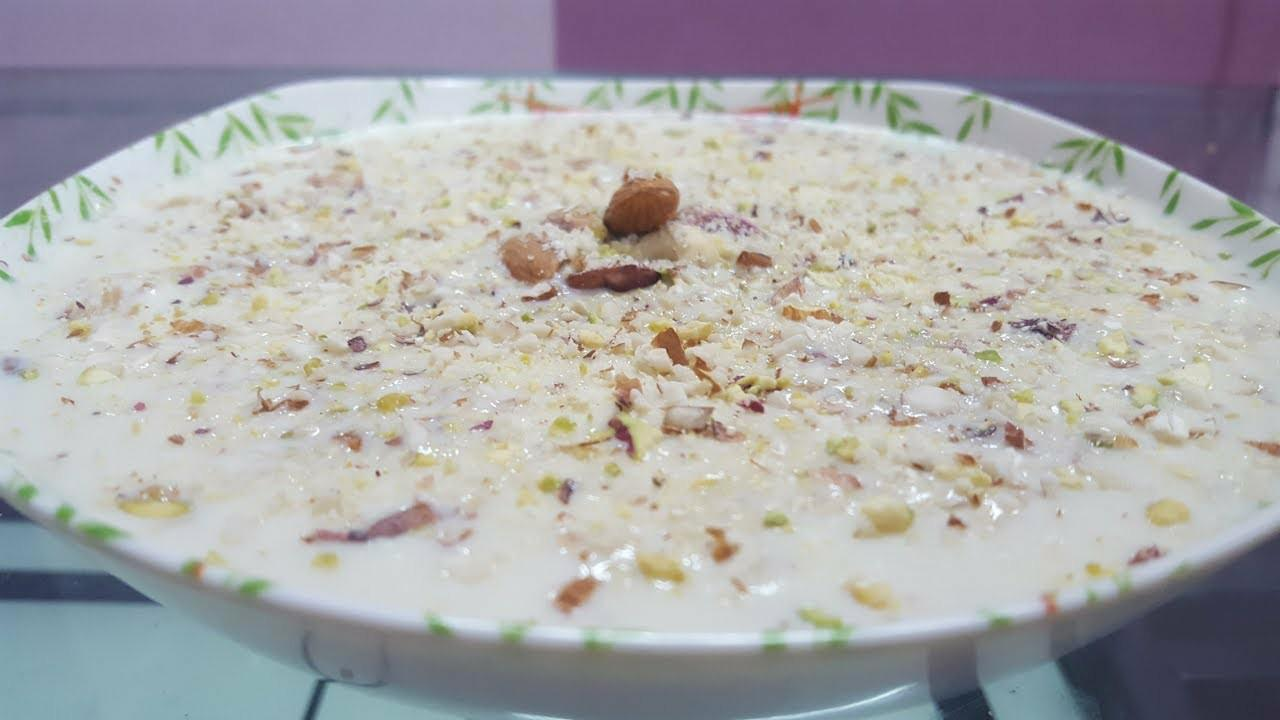Kheer: (2, 107, 1280, 634)
